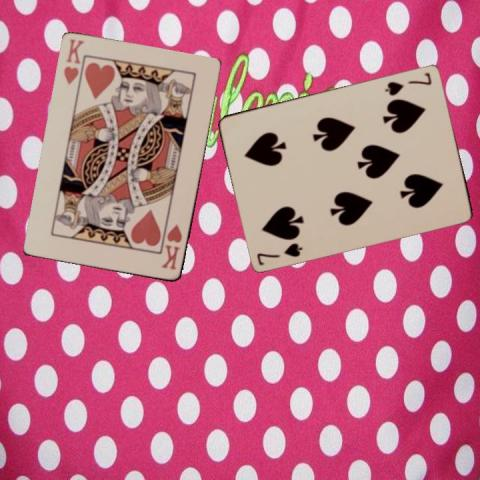7s: (382, 69, 434, 97), (254, 239, 304, 267)
Kh: (61, 36, 86, 87), (159, 222, 184, 271)
